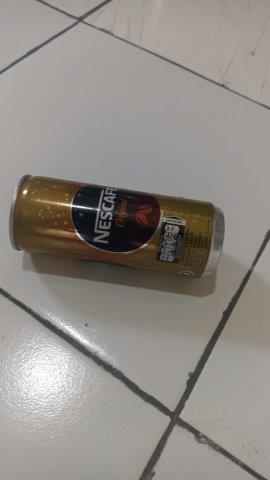kaleng: (8, 174, 226, 279)
